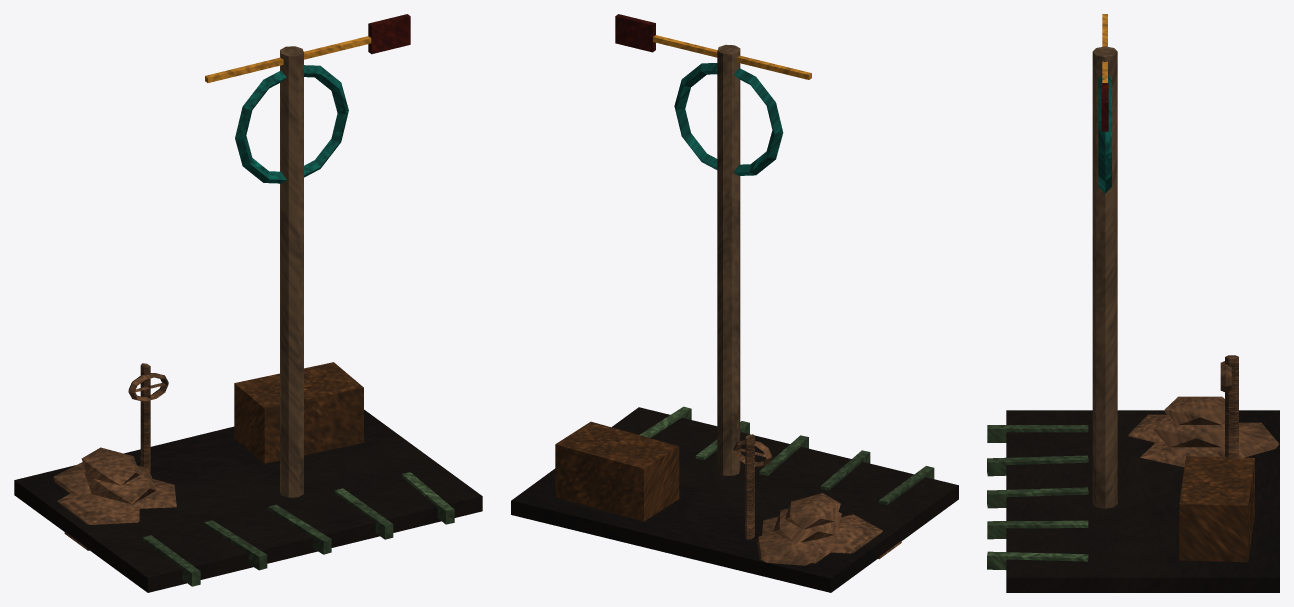
File: seed-row-weather-station.glb
The picture shows the model from 3 angles, left to right: view 1: azimuth 30°, elevation 25°; view 2: azimuth 150°, elevation 25°; view 3: azimuth 270°, elevation 25°; orthographic projection. The views are drawn at different scales.
Visible parts, largest first — view 1: seed-row-weather-station; view 2: seed-row-weather-station; view 3: seed-row-weather-station.
Boxes of the visible parts, bbox=[...] form: seed-row-weather-station: bbox=[14, 14, 482, 592]; seed-row-weather-station: bbox=[511, 14, 958, 592]; seed-row-weather-station: bbox=[987, 14, 1279, 592].
Size of the model in its own units: 4.7 by 6.3 by 3.48.
Materials: 1 (1 with a texture image).
